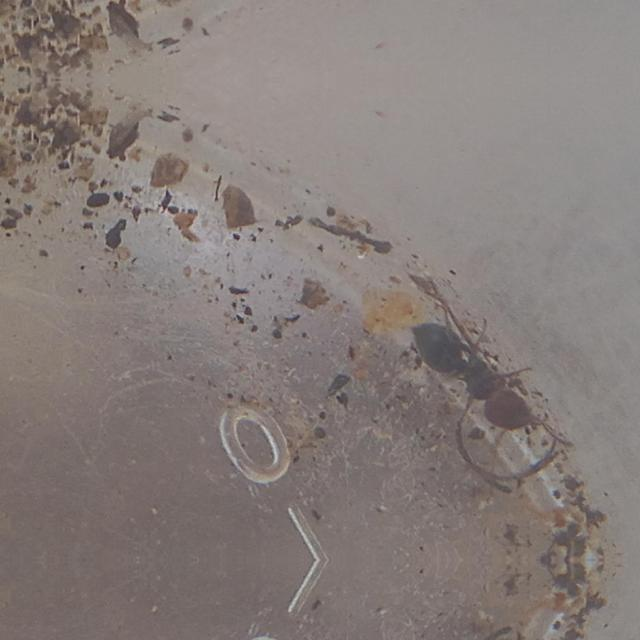Crematogaster: (406, 317, 536, 427)
